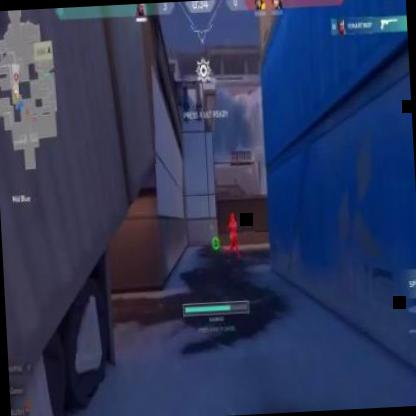enemy: (224, 209, 241, 257)
enemy_head: (230, 211, 235, 221)
